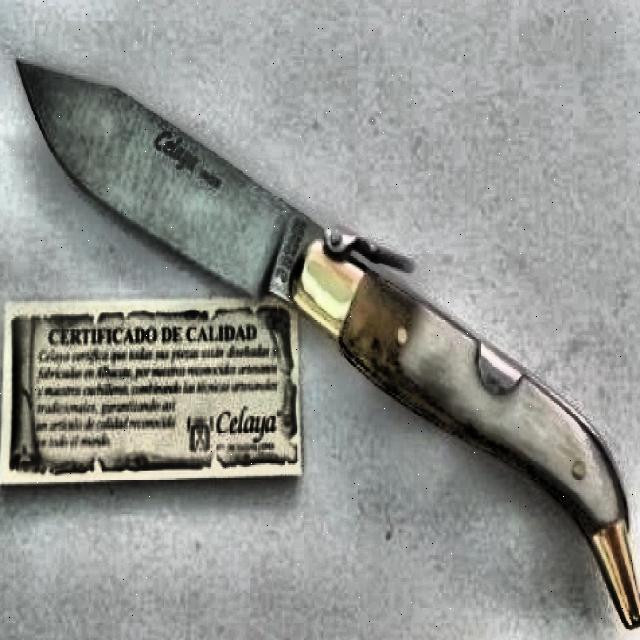knife: (16, 59, 640, 630)
